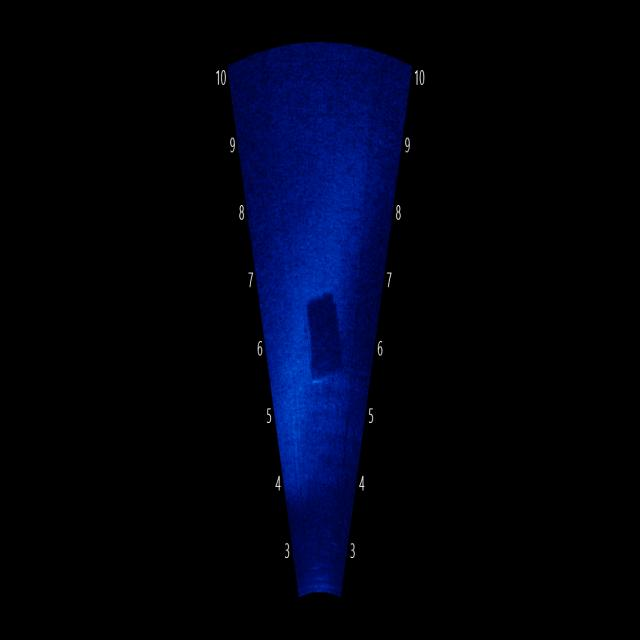square: (298, 278, 353, 400)
